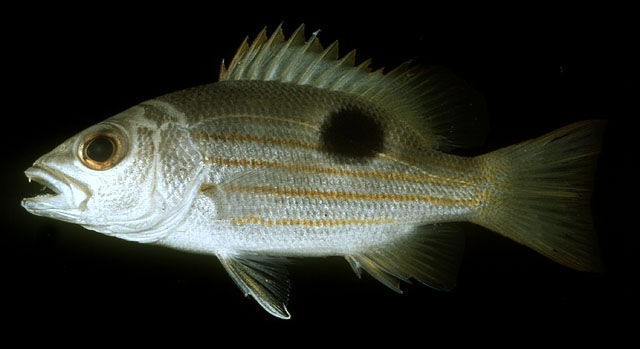fish: (21, 24, 593, 320)
